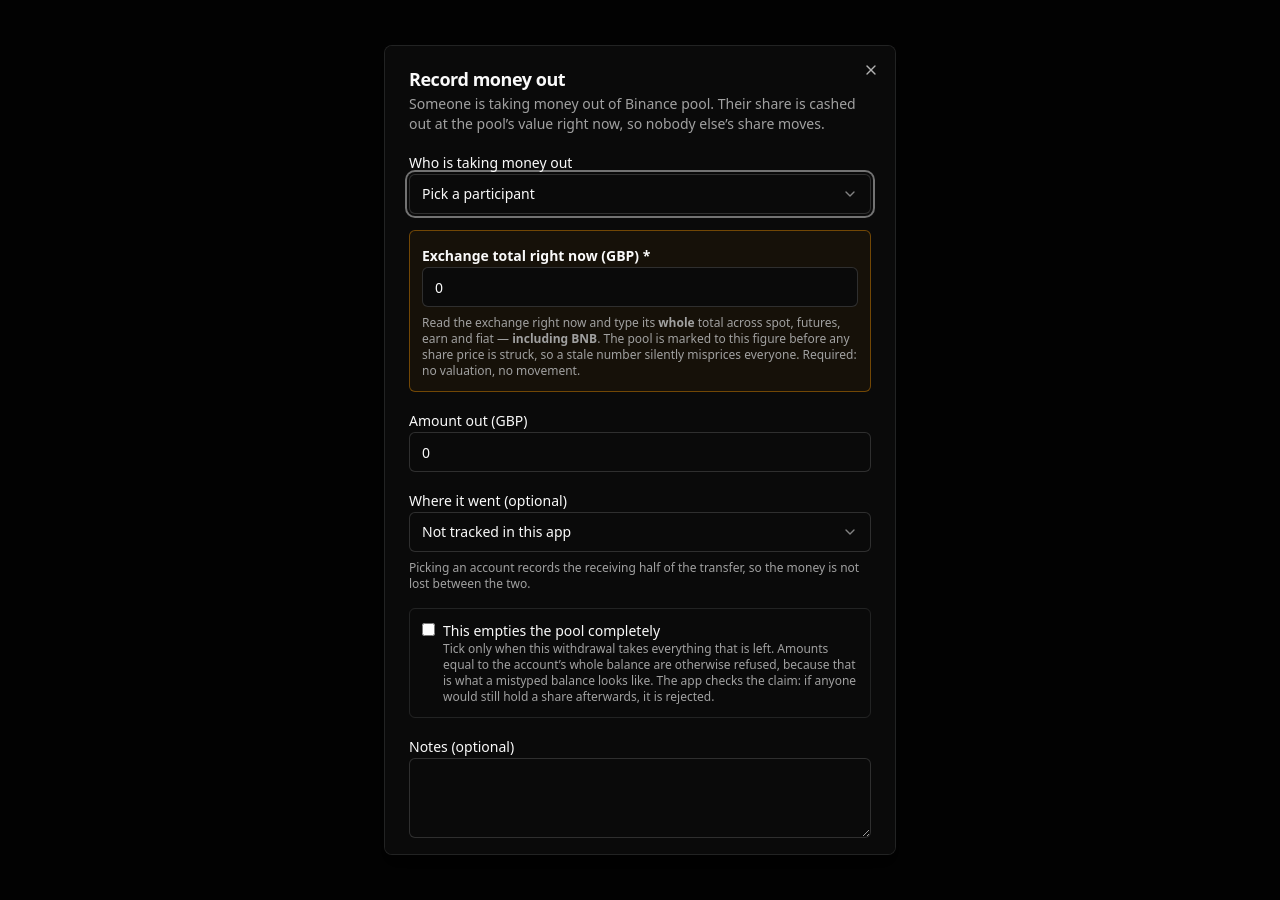
Test: RecordRedemptionDialog destination picker › says so when there is nowhere else in the same currency to send it
Step 1. Click the dropdown with test id "redemption-destination-select" → (497,532), box [409,512,871,552]
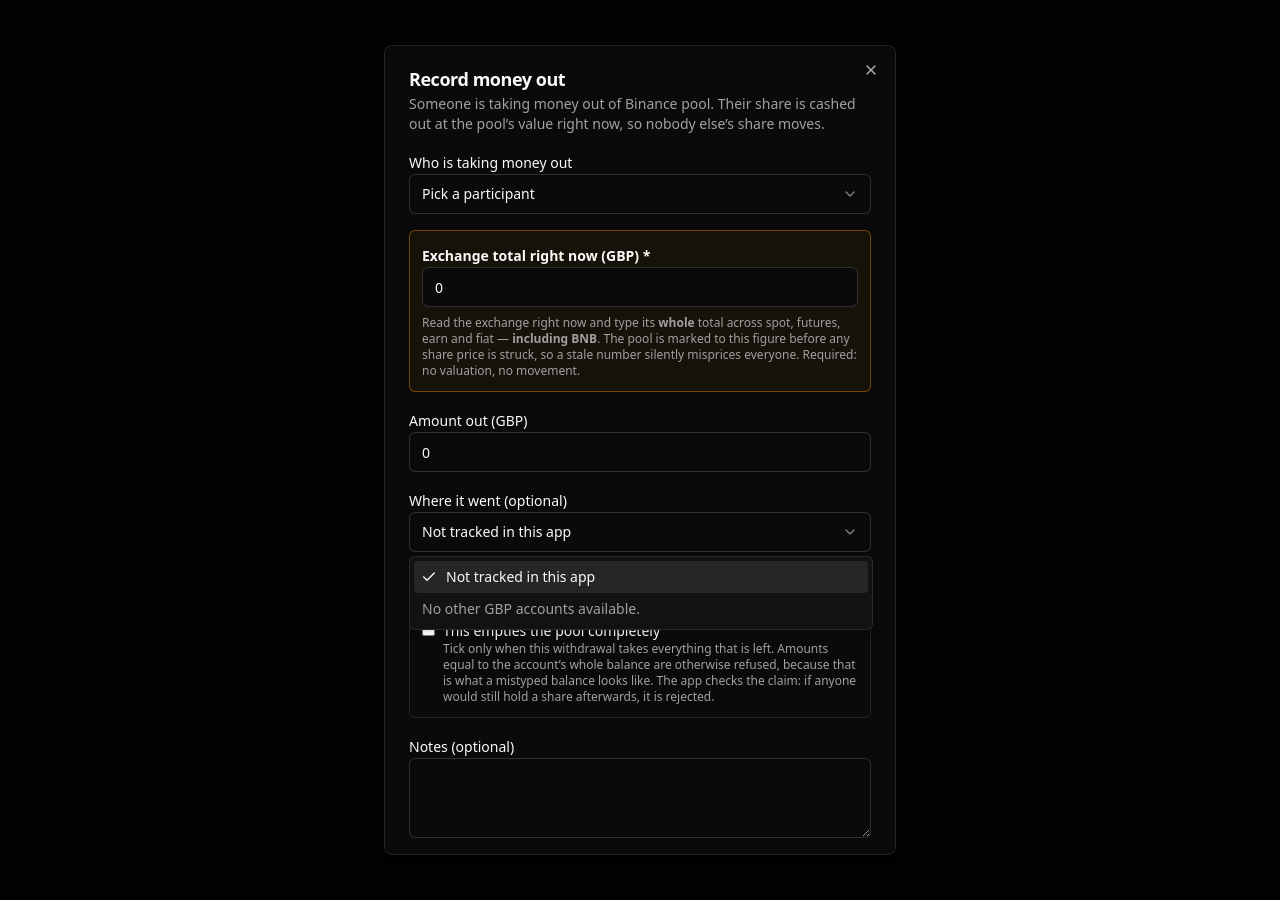
Now the text "No other GBP accounts available." is shown, box [422,599,640,618]
